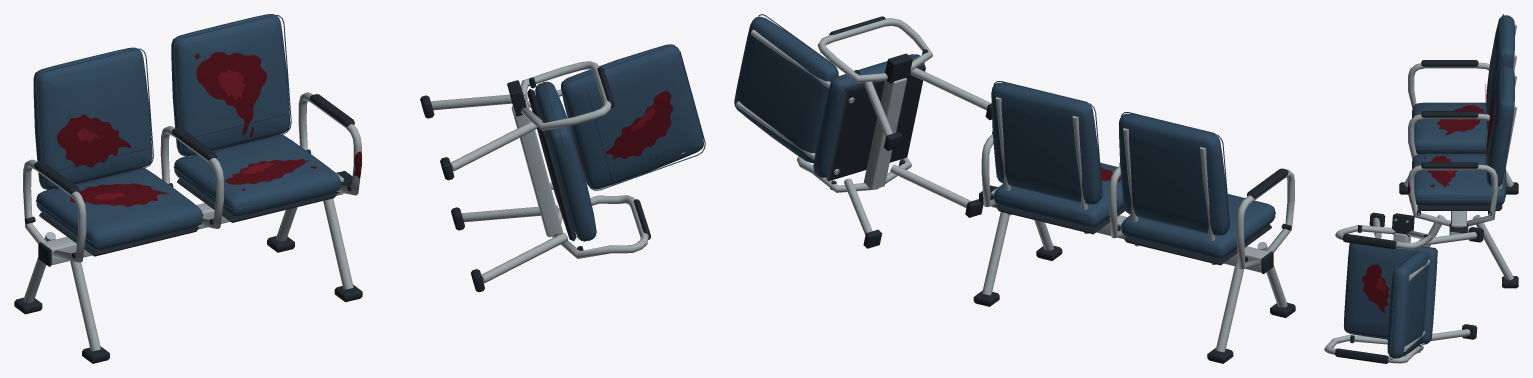
The model's file is waiting_chair_section.glb.
3 views of the same model, side by side, from view 1: azimuth 30°, elevation 25°; view 2: azimuth 150°, elevation 25°; view 3: azimuth 270°, elevation 25° (orthographic). The views are drawn at different scales.
Parts seen in each view (by area): view 1: WAITING_SECTION_OUTBREAK_V3_Static; view 2: WAITING_SECTION_OUTBREAK_V3_Static; view 3: WAITING_SECTION_OUTBREAK_V3_Static.
Boxes of the visible parts, box(x1,y1,x2,y2) form: WAITING_SECTION_OUTBREAK_V3_Static: box(14, 14, 705, 363); WAITING_SECTION_OUTBREAK_V3_Static: box(734, 14, 1295, 363); WAITING_SECTION_OUTBREAK_V3_Static: box(1324, 14, 1518, 363).
Size of the model in its own units: 2.69 by 0.9946 by 0.9664.
